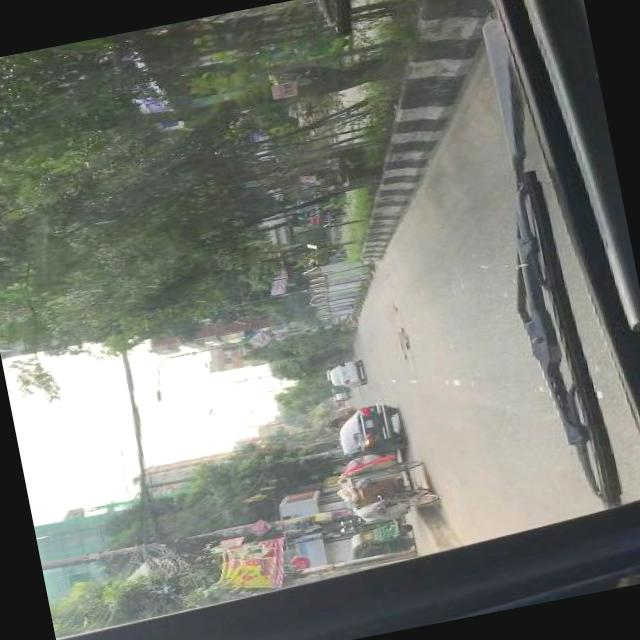car: (332, 399, 407, 464), (326, 359, 366, 392)
motorcycle: (341, 517, 412, 564), (280, 202, 348, 234), (324, 414, 348, 432)
